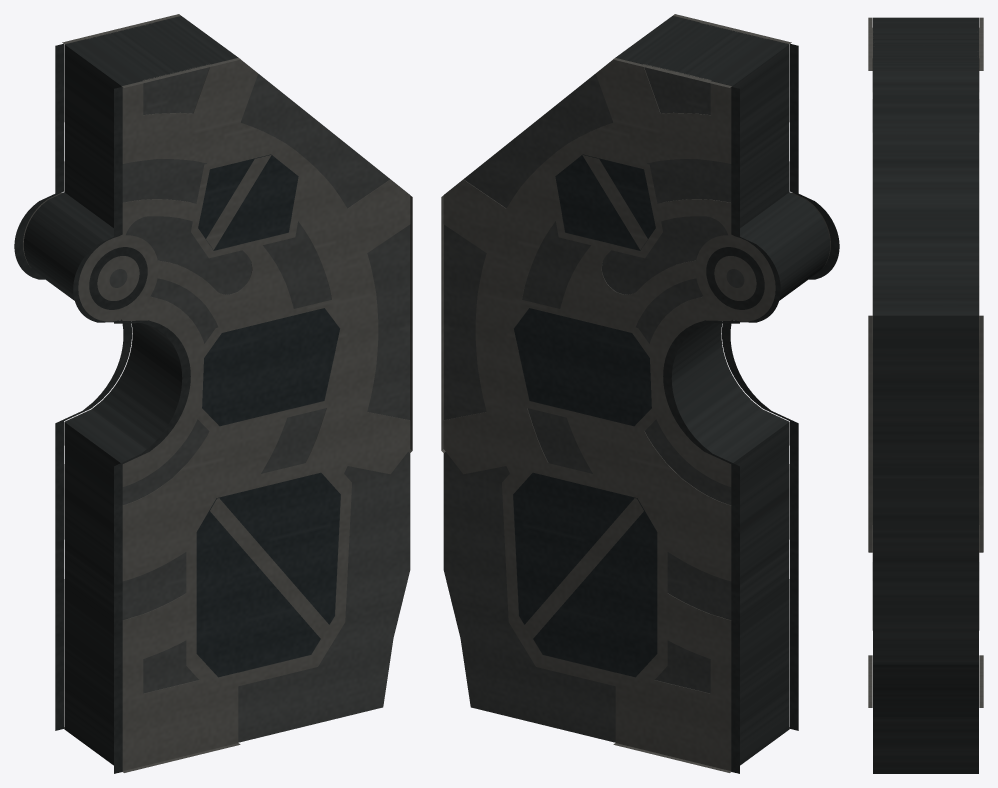
File: destiny_ship_airlock_right.obj
3 views of the same model, side by side, from view 1: azimuth 30°, elevation 25°; view 2: azimuth 150°, elevation 25°; view 3: azimuth 270°, elevation 25° (orthographic). The views are drawn at different scales.
Parts seen in each view (by area): view 1: Original_hatch_right; view 2: Original_hatch_right; view 3: Original_hatch_right.
Boxes of the visible parts, x1,y1,x2,y2 form: Original_hatch_right: [14, 14, 412, 773]; Original_hatch_right: [441, 14, 839, 773]; Original_hatch_right: [868, 17, 983, 773].
Bounding box in the file's own units: 1.49 × 2.88 × 0.4739.
